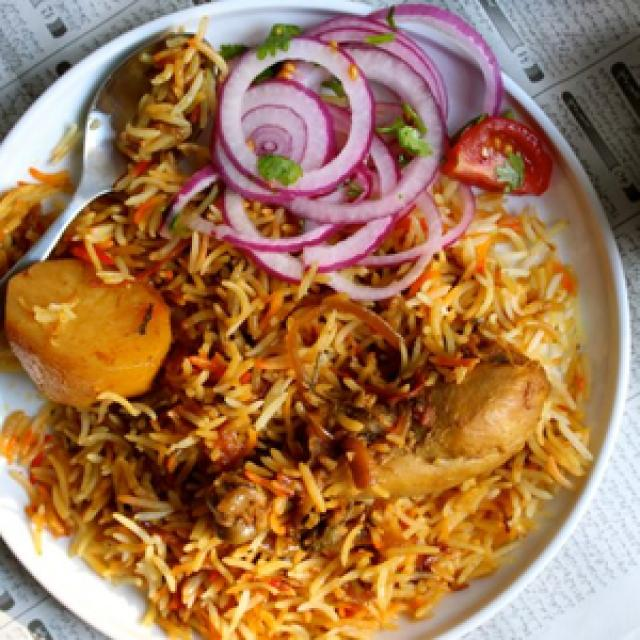chicken biriyani: (0, 4, 604, 640)
